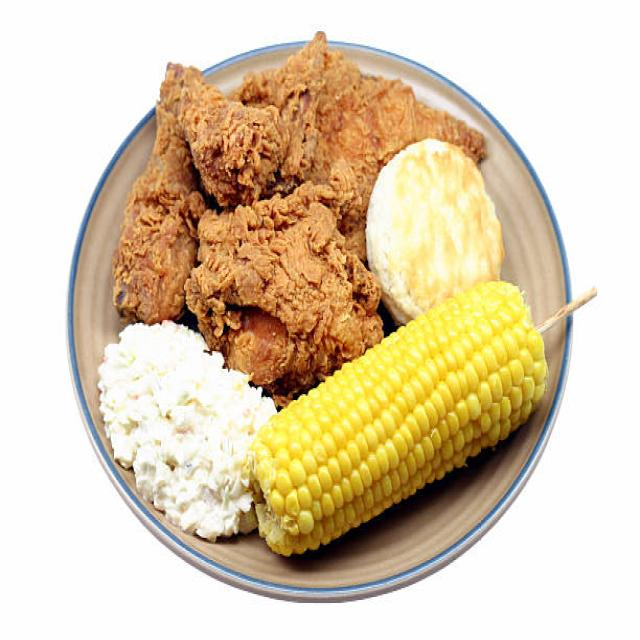Frango: (112, 25, 487, 406)
